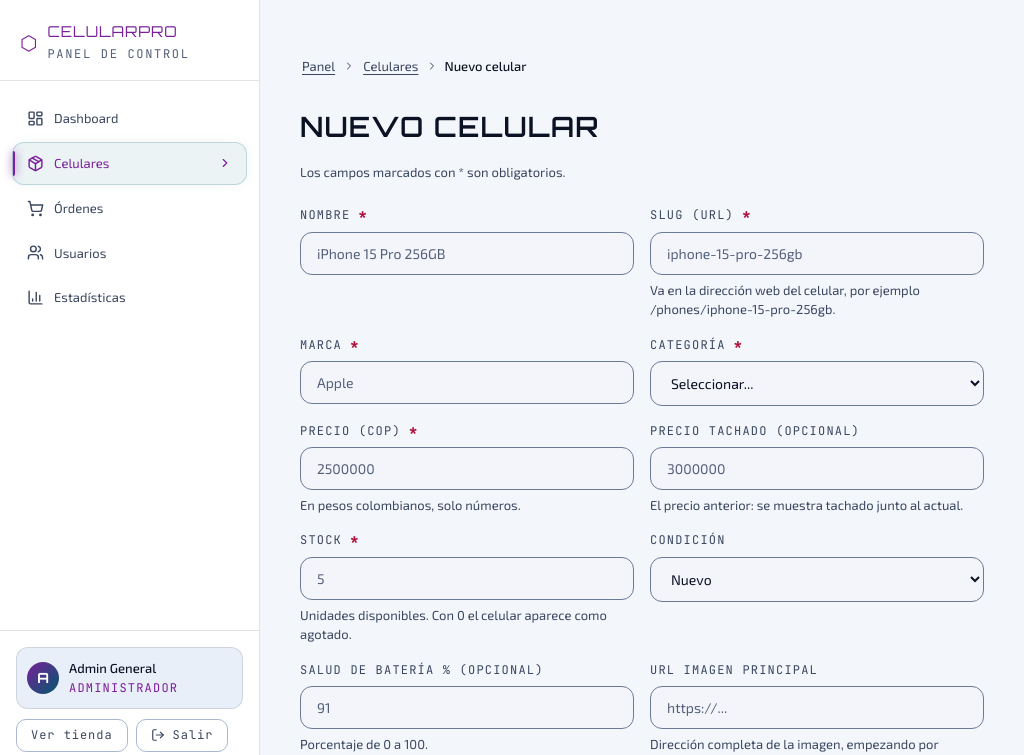
Test case: ESC-30 · Regresión (front) — administración del catálogo › Crear › con {"Precio (COP)":"0"} muestra "Debe ser positivo" y no envía nada
Expected: the heading "Nuevo celular" is shown, [300,109,599,144]
Type "Galaxy S24" into the field labelled "Nombre" at (467, 253), box [300,232,634,275]
Type "galaxy-s24" into the field labelled "Slug (URL)" at (817, 253), box [650,232,984,275]
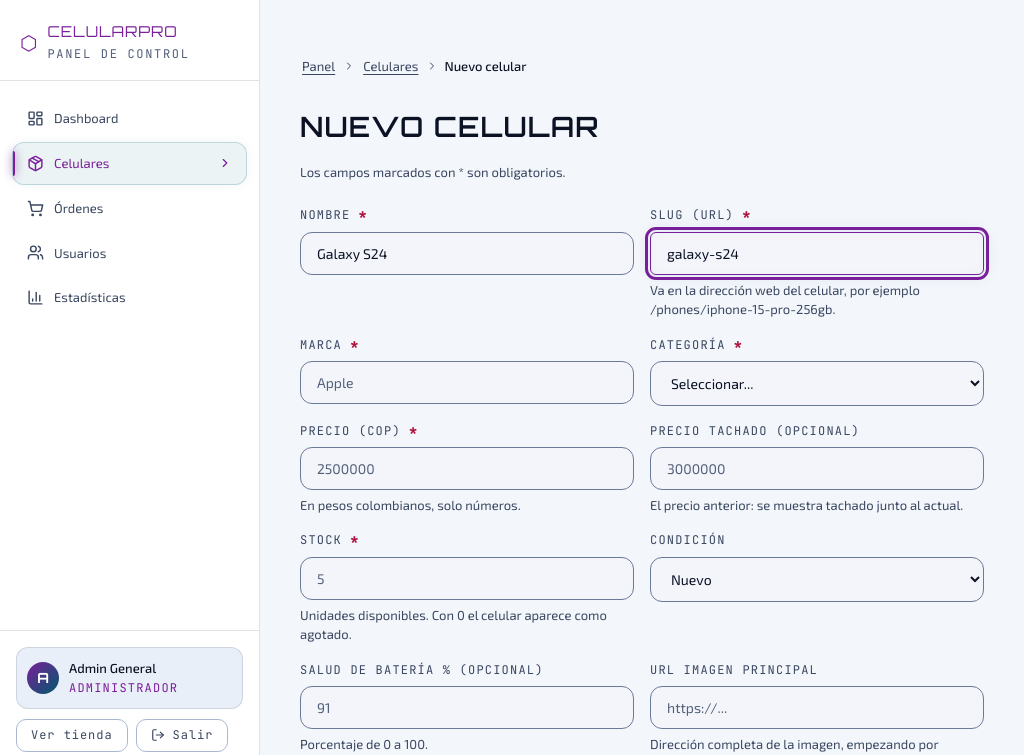
Type "Samsung" into the field labelled "Marca" at (467, 382), box [300,361,634,404]
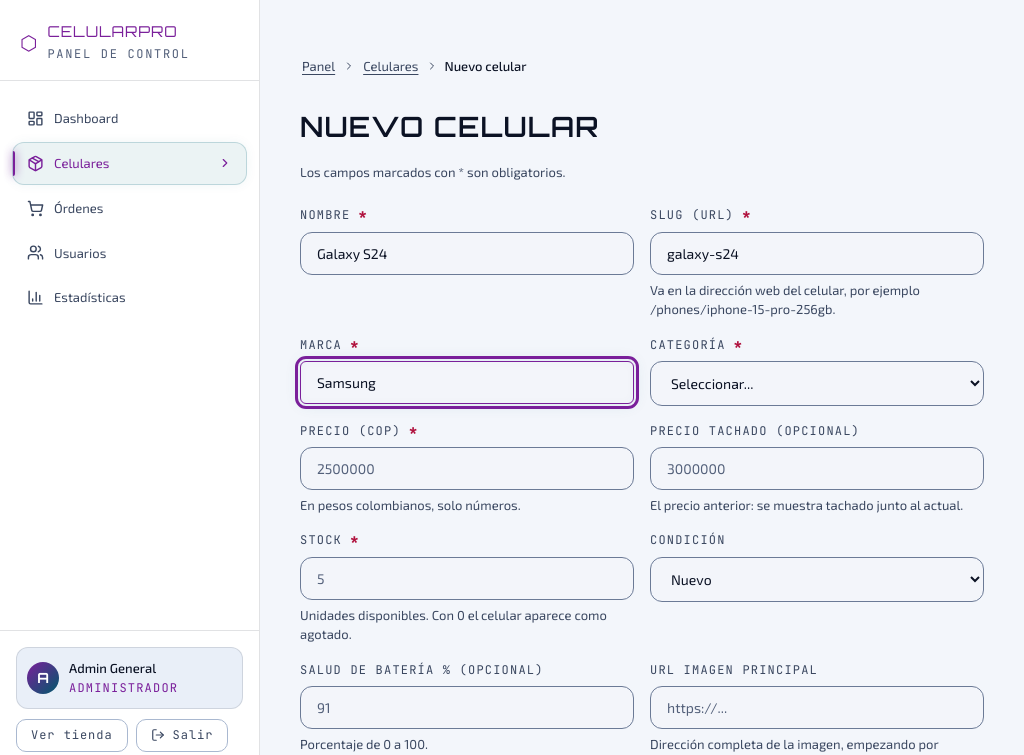
Type "0" into the number field labelled "Precio (COP)" at (467, 468), box [300,447,634,490]
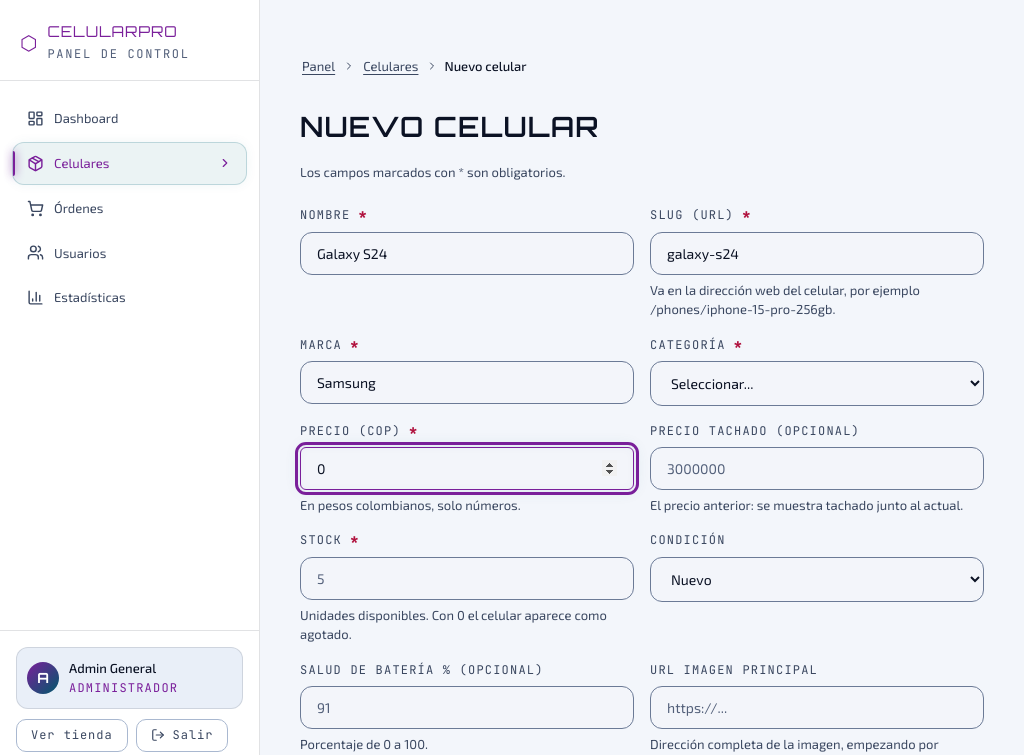
Type "4" into the number field labelled "Stock" at (467, 578), box [300,557,634,600]
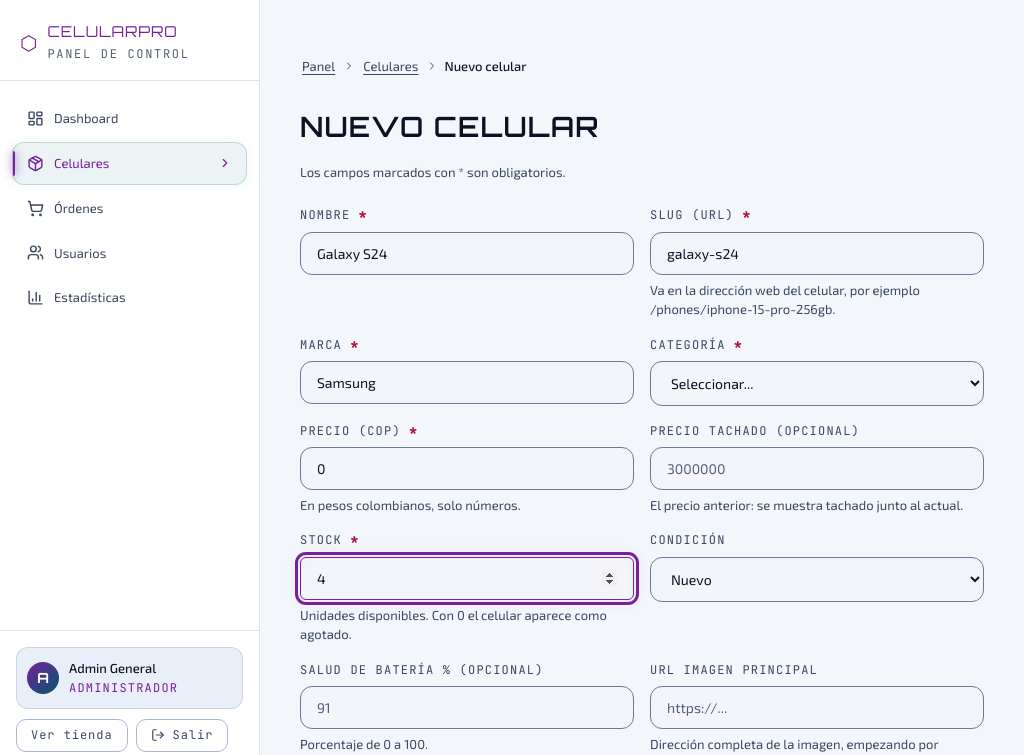
Select "Samsung" in the dropdown labelled "Categoría" at (817, 383), box [650,361,984,406]
(page scrolled)
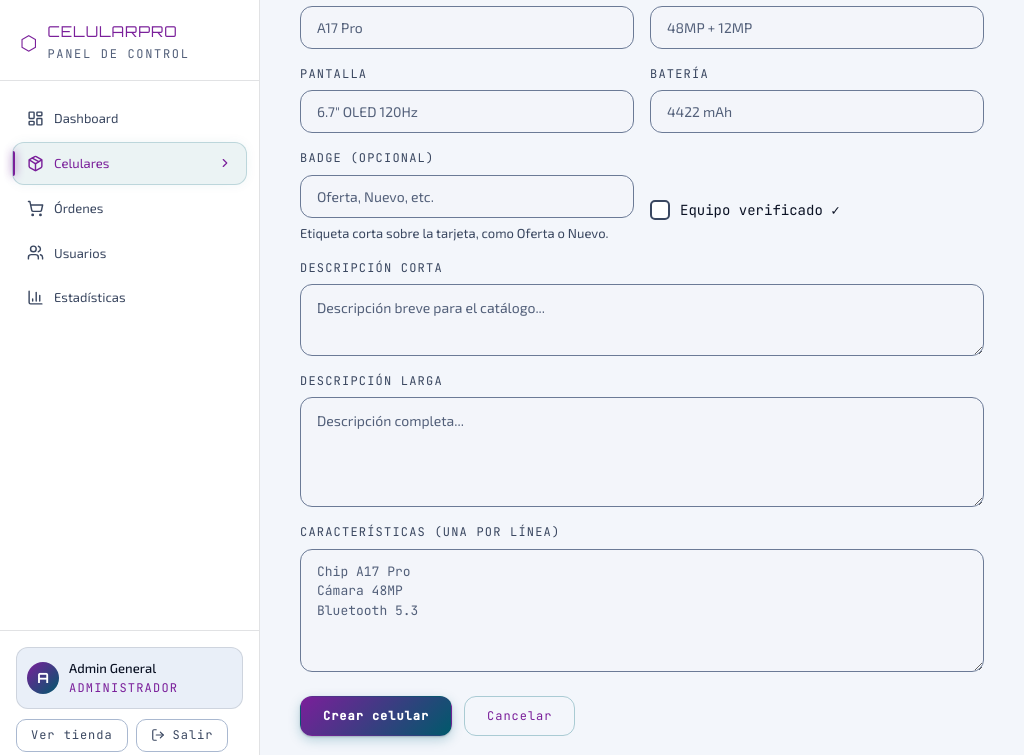
Click the button "Crear celular" at (376, 716), box [300,696,452,736]
(page scrolled)
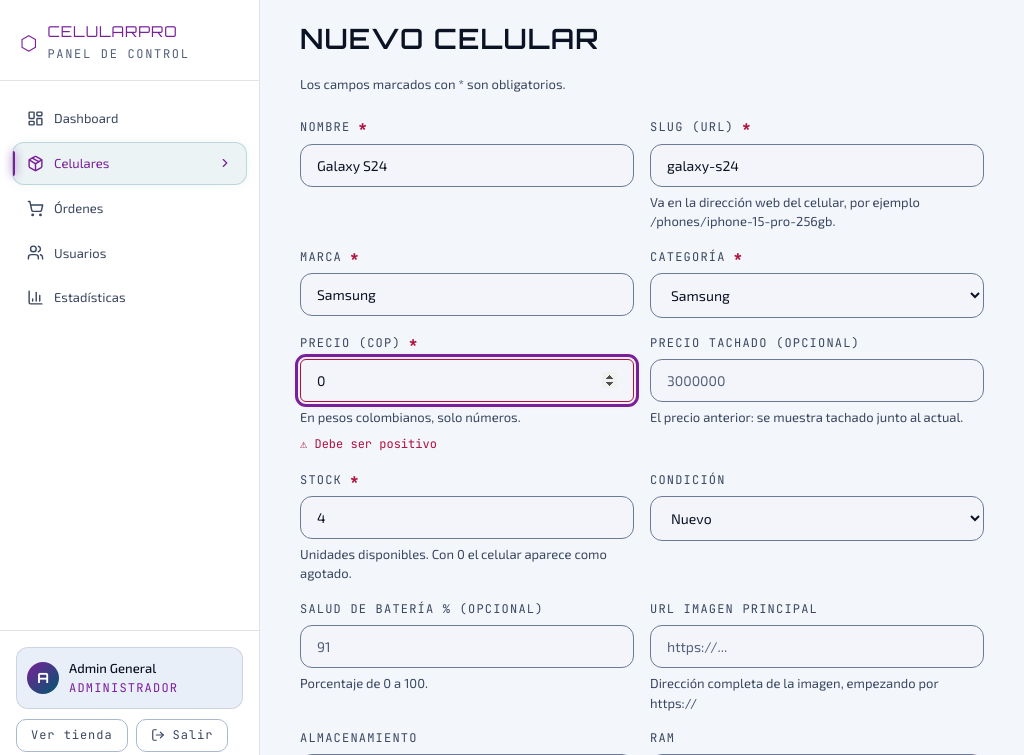
Result: the text "Debe ser positivo" is shown at [314,436,437,452]
